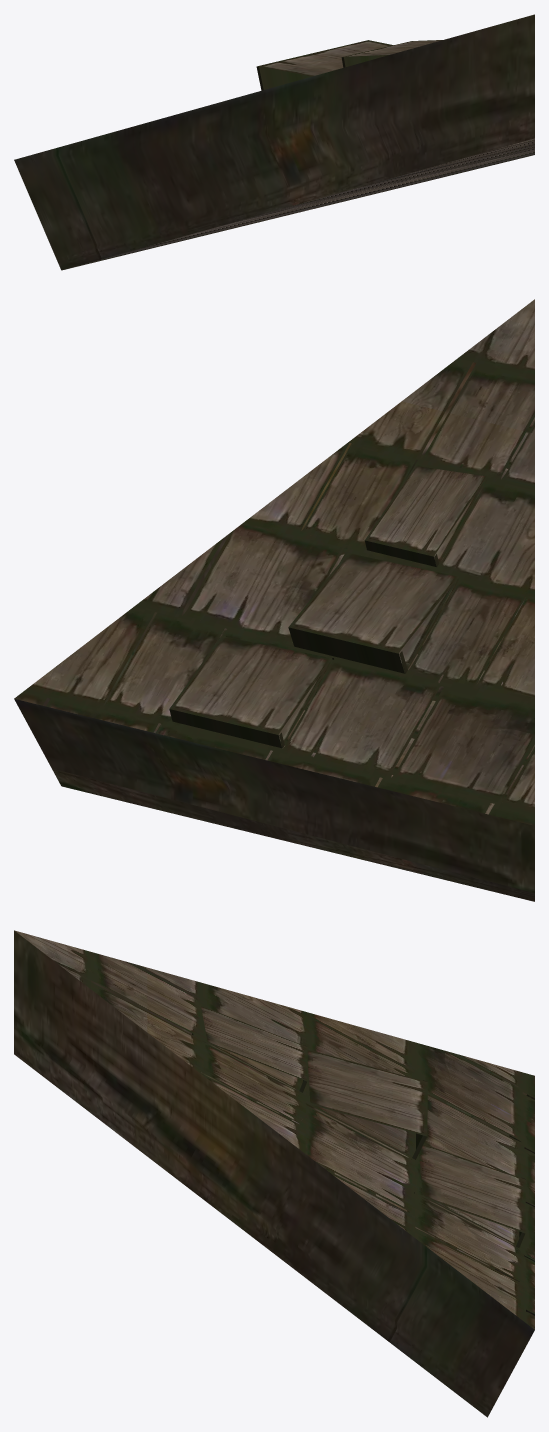
3 views of the same model, one above another, from view 1: azimuth 30°, elevation 25°; view 2: azimuth 150°, elevation 25°; view 3: azimuth 270°, elevation 25° (orthographic).
Visible parts, largest first — view 1: SM_BB_T1_Roof_Triangle_Shallow_Med_Inverted_LOD0; view 2: SM_BB_T1_Roof_Triangle_Shallow_Med_Inverted_LOD0; view 3: SM_BB_T1_Roof_Triangle_Shallow_Med_Inverted_LOD0.
Boxes of the visible parts, <box> form: SM_BB_T1_Roof_Triangle_Shallow_Med_Inverted_LOD0: <box>14,14,534,270</box>; SM_BB_T1_Roof_Triangle_Shallow_Med_Inverted_LOD0: <box>14,299,534,901</box>; SM_BB_T1_Roof_Triangle_Shallow_Med_Inverted_LOD0: <box>14,930,534,1417</box>.
Size of the model in its own units: 1.65 by 1.12 by 1.43.
Materials: 3 (3 with a texture image).
